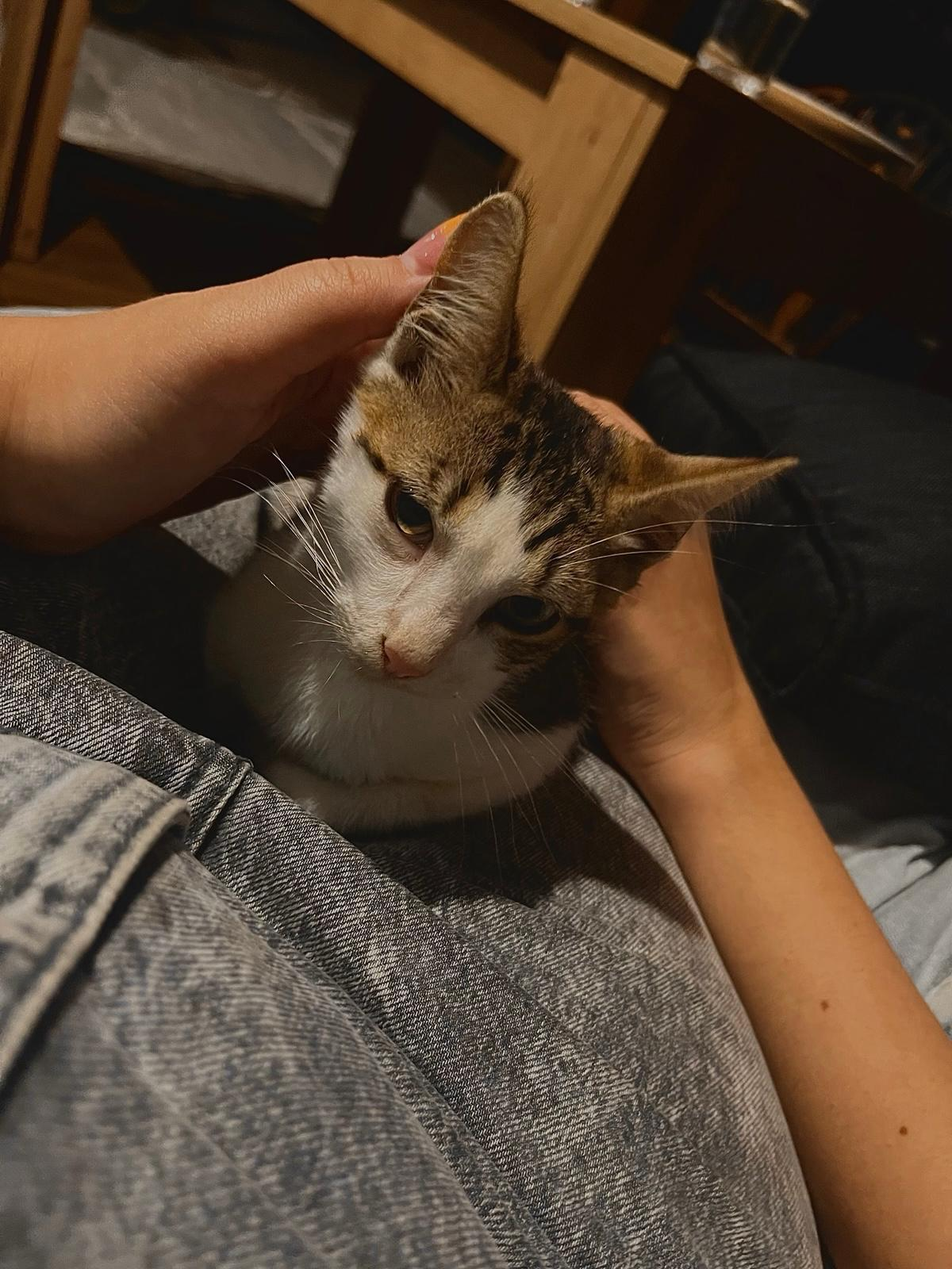macka: (218, 187, 801, 831)
